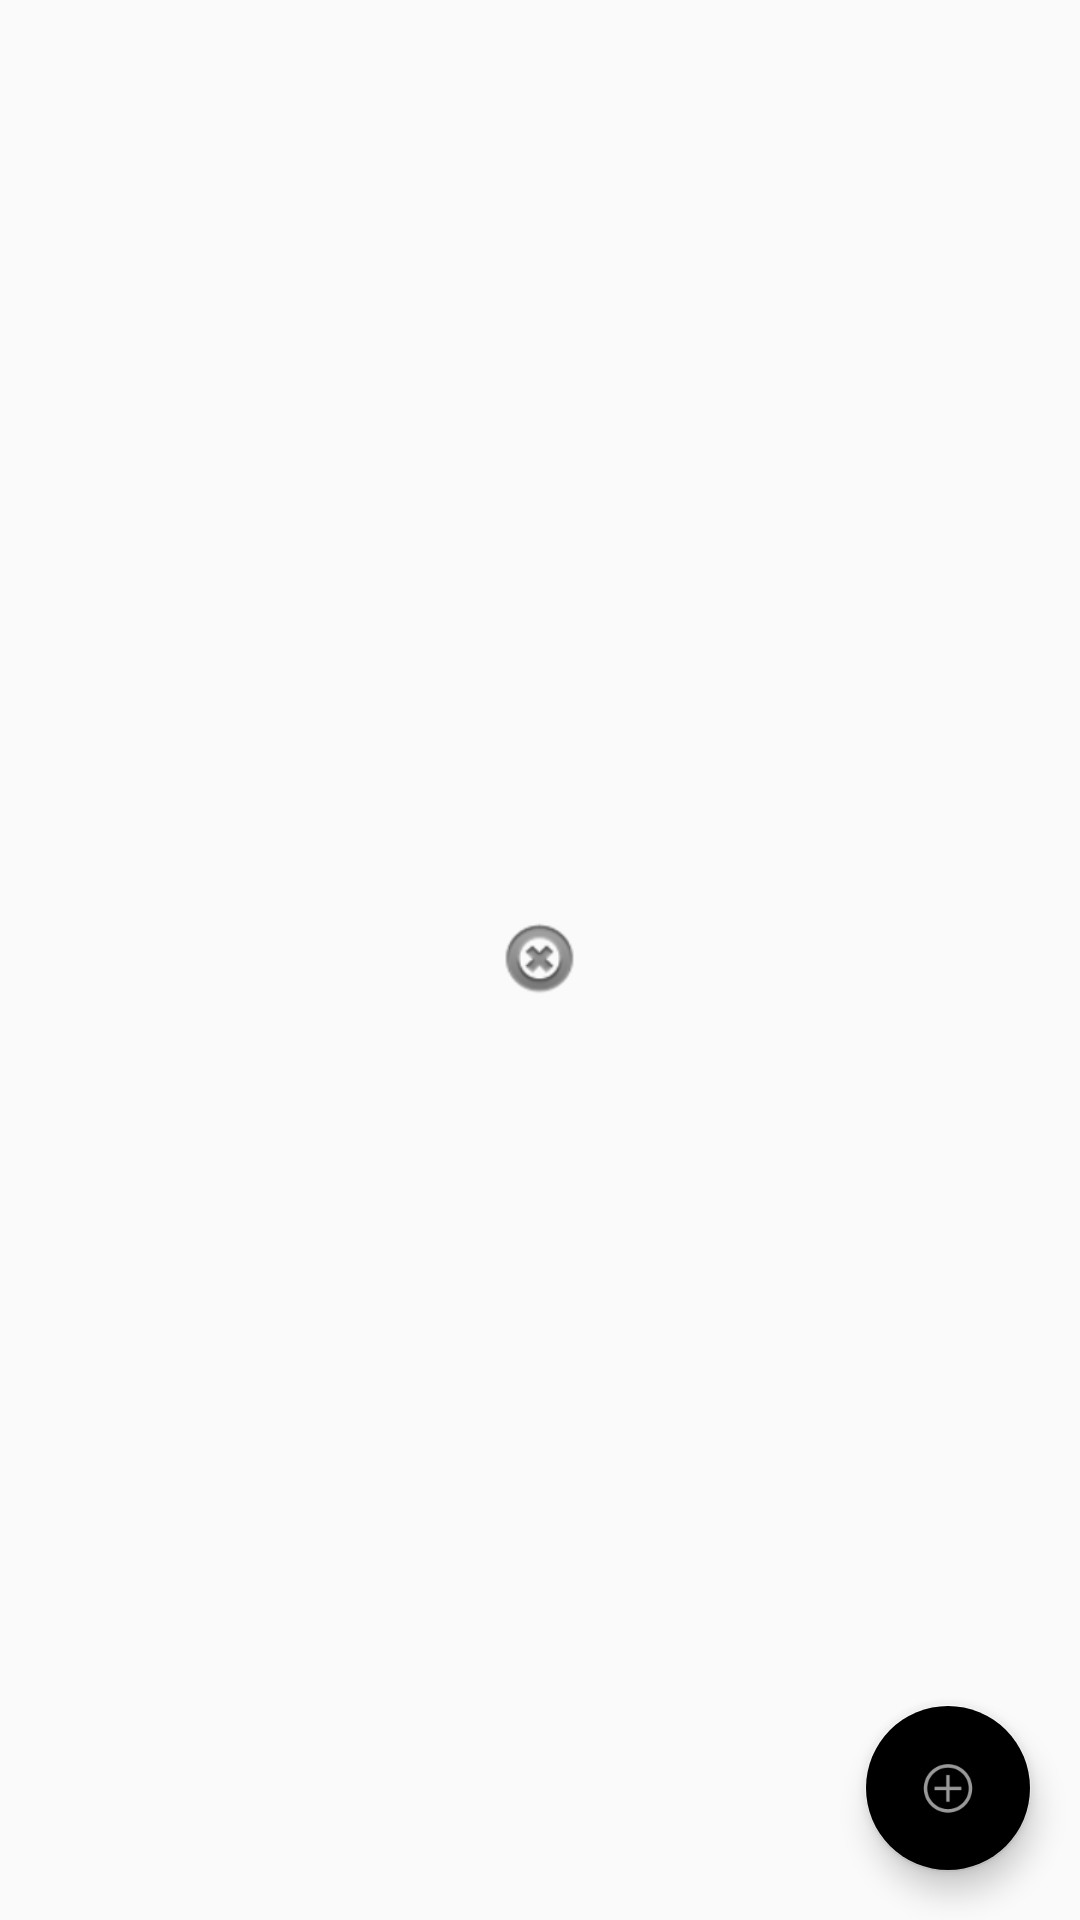

Where to tap for icons on this 1080*1920 app screen, as (x=x, y=y):
add: (x=949, y=1789)
notification clear all: (x=539, y=958)
